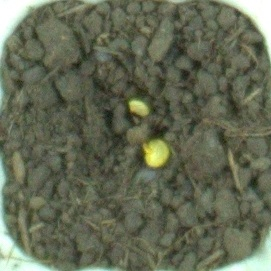pepper seed: (52, 53, 225, 222), (50, 39, 203, 157)
